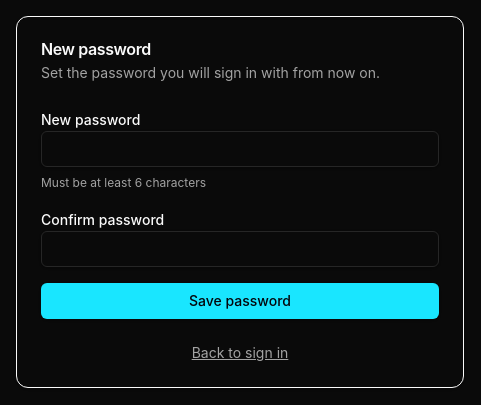
password update › writes the new password once the recovery session is in place
Type "correct horse" into the password field labelled "New password". click: (240, 149)
box: [41,131,439,167]
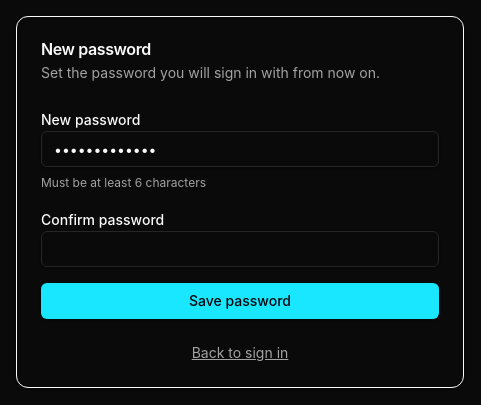
Type "correct horse" into the password field labelled "Confirm password". click: (240, 249)
box: [41,231,439,267]
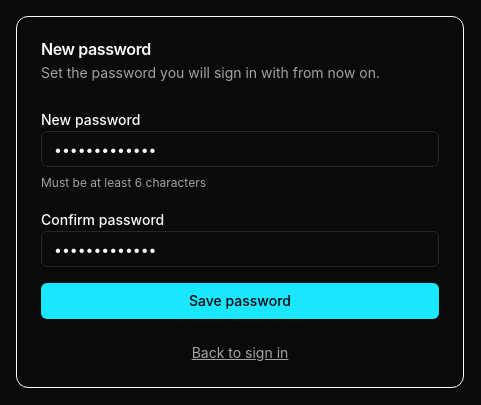
Click the button "Save password". click: (240, 301)
box: [41,283,439,319]
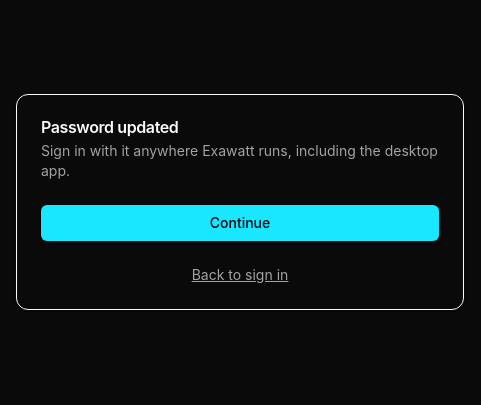
Check: the text "Password updated" is shown, box [41,117,178,137]
